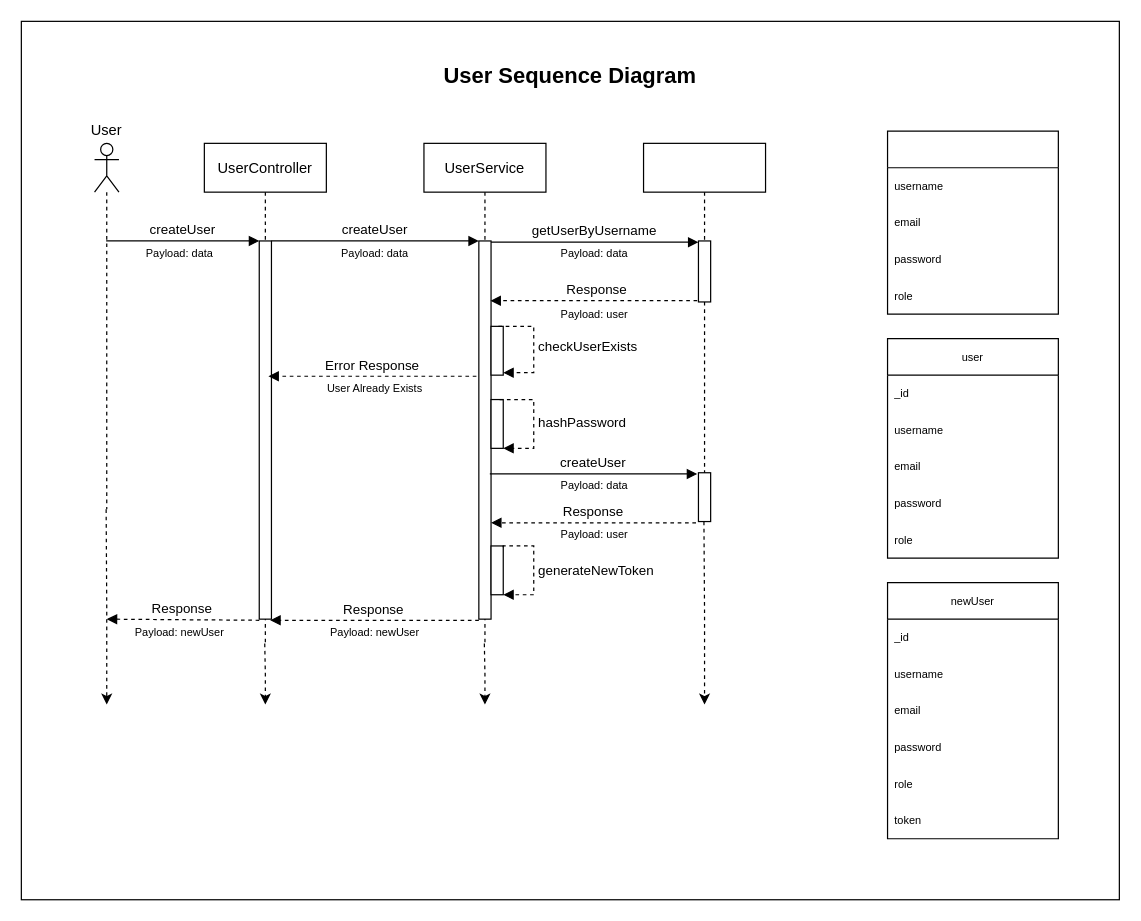
The diagram is 1141 pixels wide and 921 high, and some of its shapes have lost their labels. Here are the shapes that lost their labels. From the top down, the box of each, then its label:
(886, 130, 1058, 314): data
(642, 142, 766, 522): UserDao/DB
